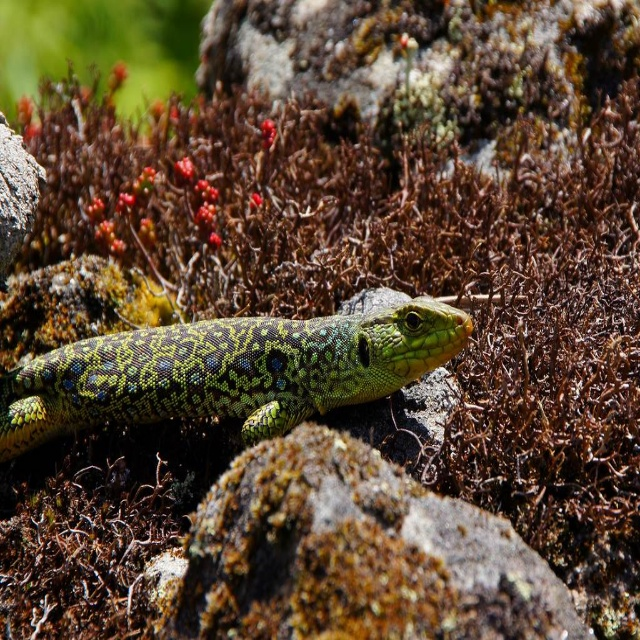Lizard: (2, 302, 470, 443)
